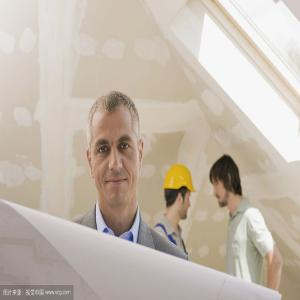none: (86, 90, 146, 213), (209, 152, 243, 213)
yellow: (164, 165, 196, 227)
